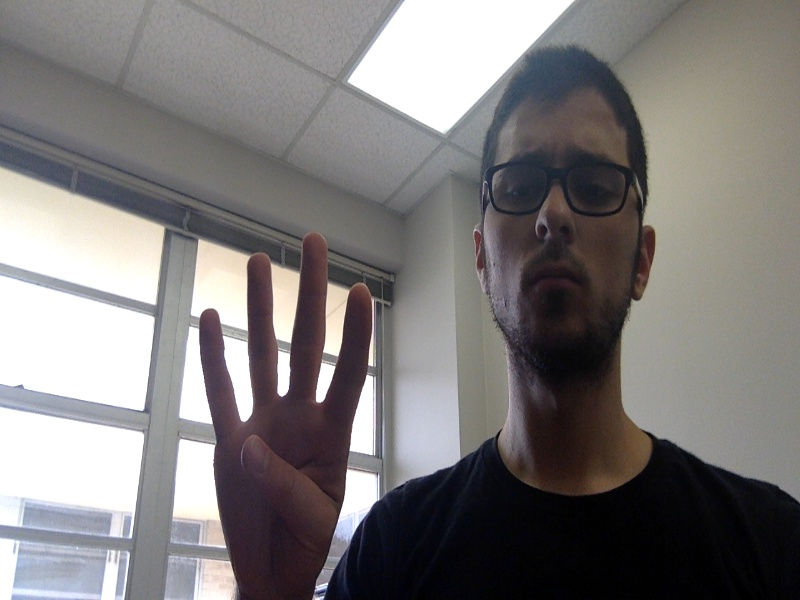4-hand: (200, 234, 371, 597)
